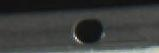holes: (74, 17, 104, 45)
